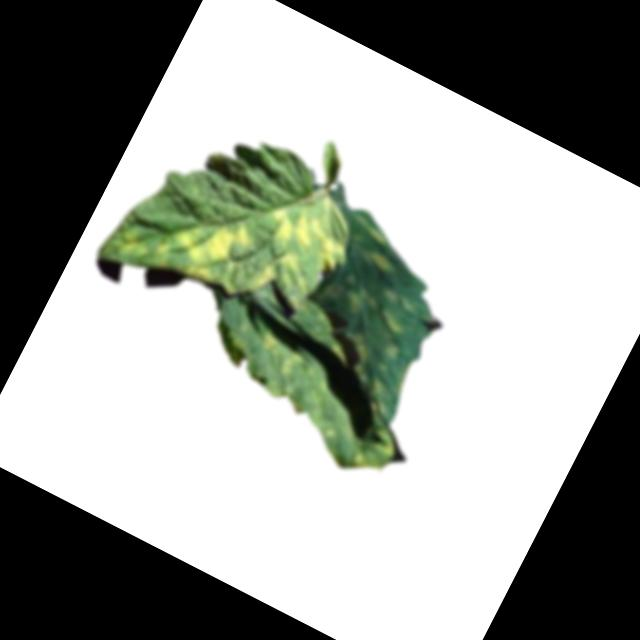Leaf_Mold: (147, 194, 258, 301), (258, 197, 355, 275), (248, 242, 306, 308), (328, 324, 382, 379), (341, 281, 383, 322), (358, 245, 398, 279), (373, 307, 408, 337), (256, 330, 280, 354), (349, 451, 371, 474)
